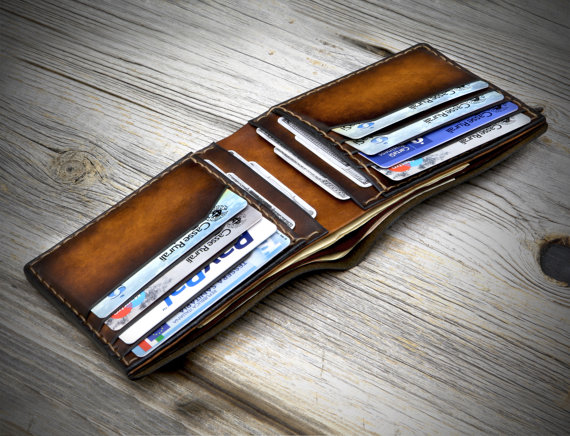monedero: (22, 40, 551, 386)
